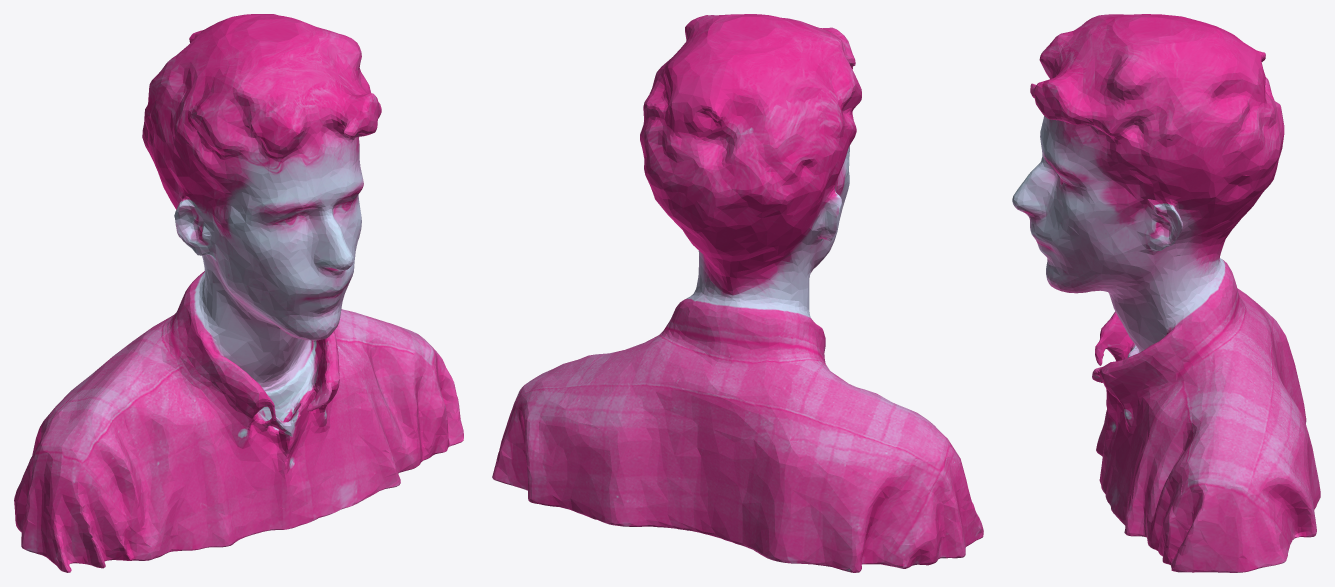
File: leo_rose.gltf
3 views of the same model, side by side, from view 1: azimuth 30°, elevation 25°; view 2: azimuth 150°, elevation 25°; view 3: azimuth 270°, elevation 25° (orthographic). The views are drawn at different scales.
Visible parts, largest first — view 1: model_mesh; view 2: model_mesh; view 3: model_mesh.
Part boxes in pixels (x1=…): model_mesh: x1=14, y1=14, x2=463, y2=572; model_mesh: x1=492, y1=14, x2=983, y2=572; model_mesh: x1=1012, y1=14, x2=1320, y2=572.
Bounding box in the file's own units: 2.47 × 2.52 × 1.53.
Materials: 1 (1 with a texture image).
